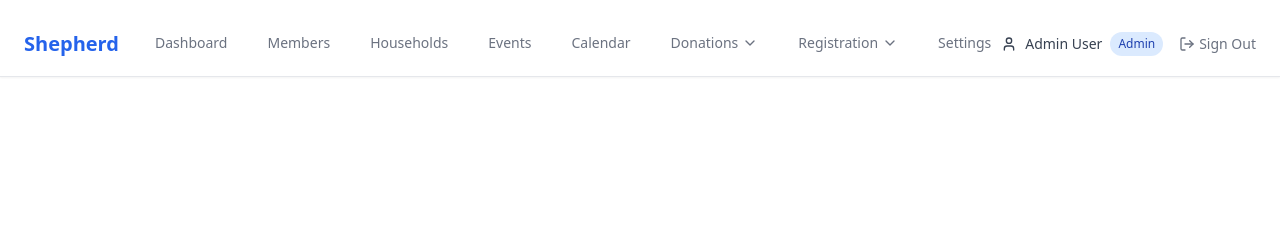
Test: Navigation - Donation Integration (PRP-2C-010) › Admin Role - Full Donation Access › should show "Quick Donate" in submenu for admin users
This screenshot has width=1280, height=252.
Click on Donations to open submenu
Click the button "Donations" at (714, 44), box [667,12,762,76]
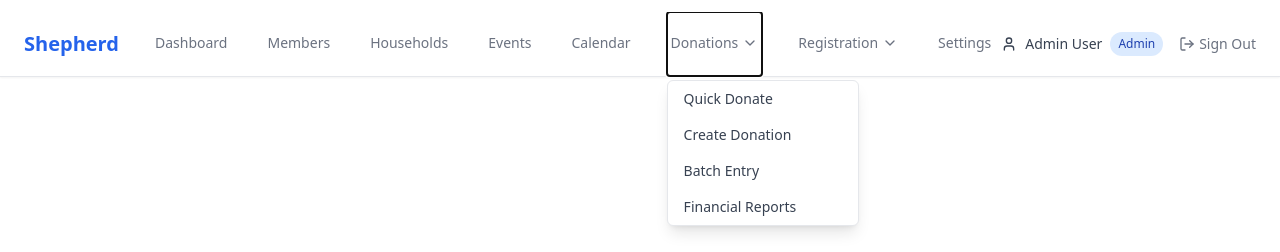
Now the link "Quick Donate" is shown, box [684,89,773,108]
Now the link "Create Donation" is shown, box [684,125,791,144]
Now the link "Batch Entry" is shown, box [684,161,759,180]
